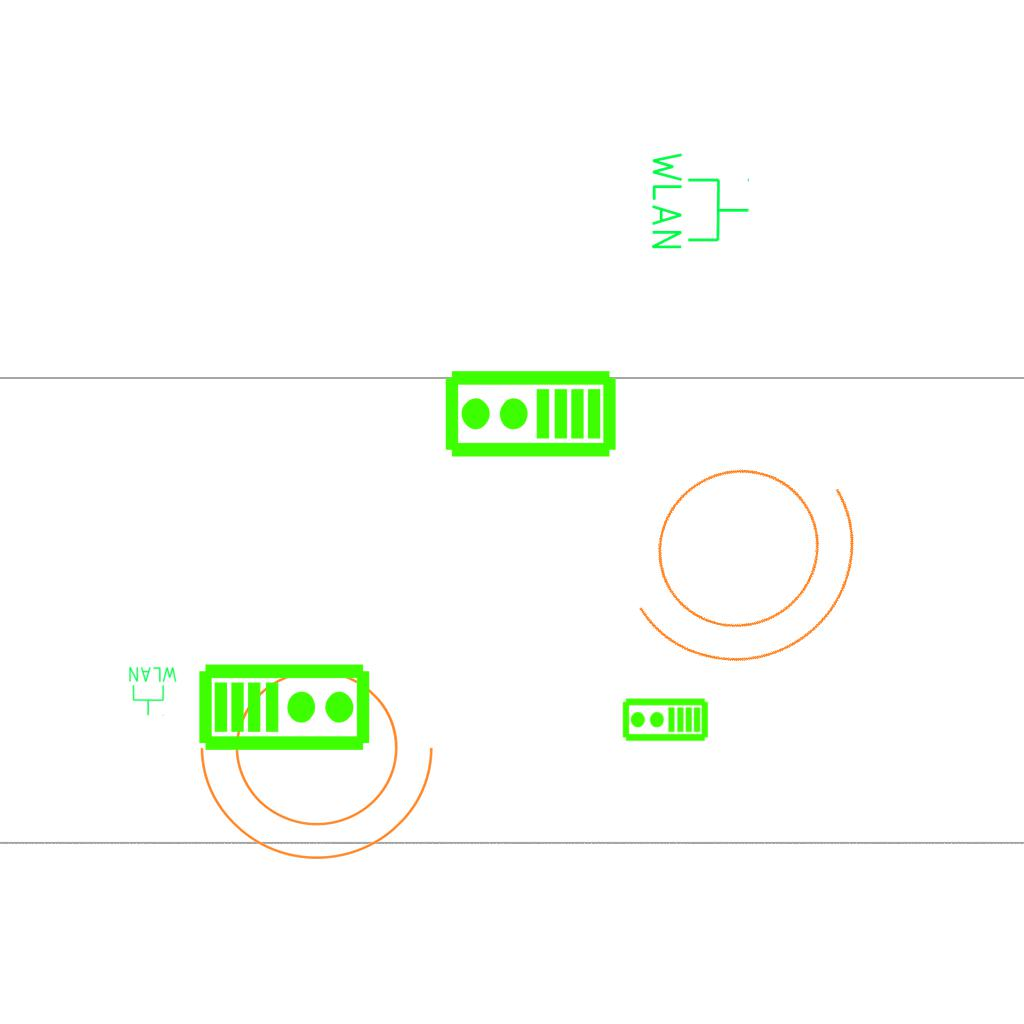Gegensprechanlage_mit_Video: (442, 368, 618, 463), (197, 658, 373, 753), (621, 697, 709, 744)
Scheinwerfer_fuer_Alarmbeleuchtung: (577, 389, 921, 718), (191, 645, 455, 870)
WLAN: (648, 148, 752, 253), (127, 665, 179, 717)
